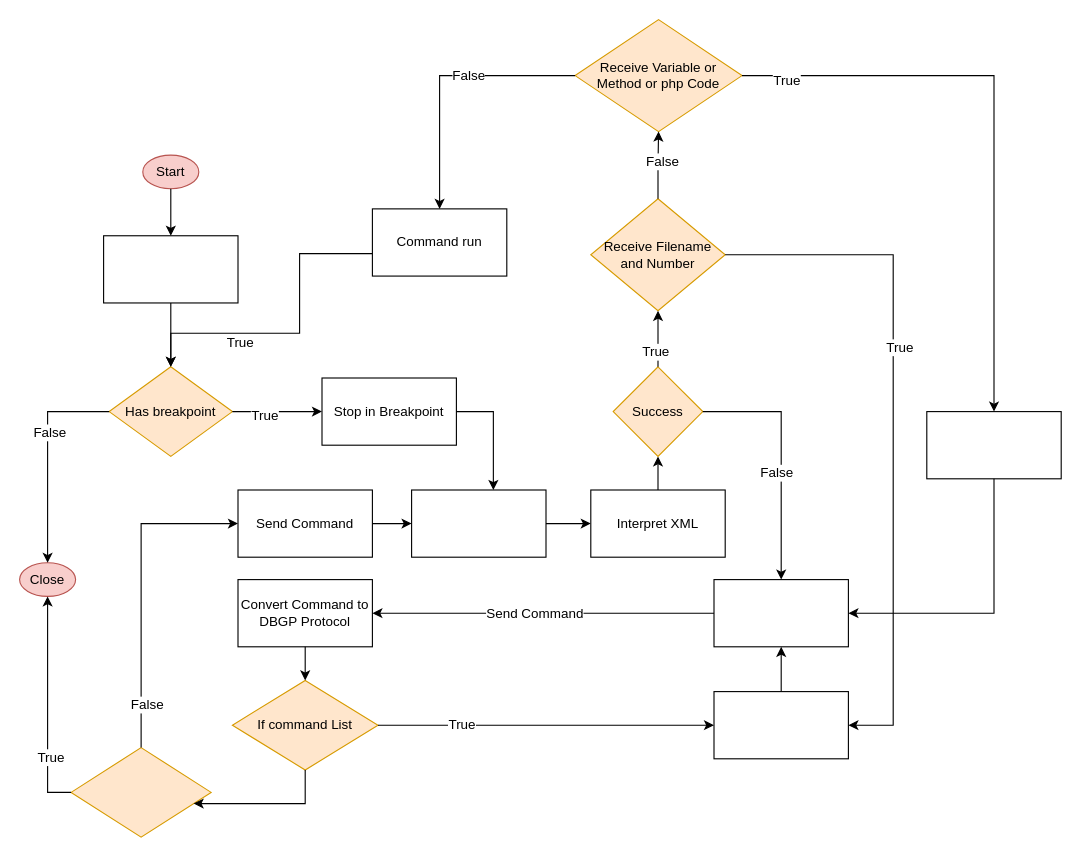
Image size: 1081x857. Some labels were removed from this diagram. The centre of each missing label's shape, as x and y in pixels:
"File Printer" belongs at (780,724).
"If Command Quit" belongs at (140,791).
"Print Result" belongs at (993,444).
"Receive XML" belongs at (478,523).
"Start Socket" belongs at (170,269).
"Wait Command" belongs at (780,612).
